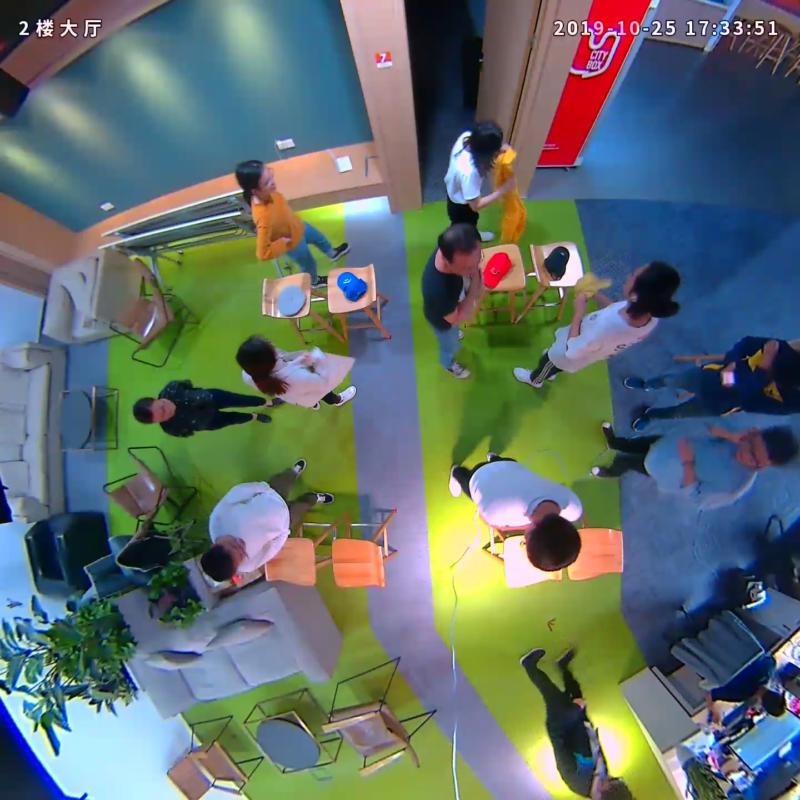head: (525, 513, 581, 572), (623, 260, 680, 310), (737, 426, 797, 469), (437, 222, 482, 277), (200, 536, 247, 584), (236, 336, 277, 372), (235, 159, 276, 195), (471, 120, 503, 160), (133, 396, 176, 425)
